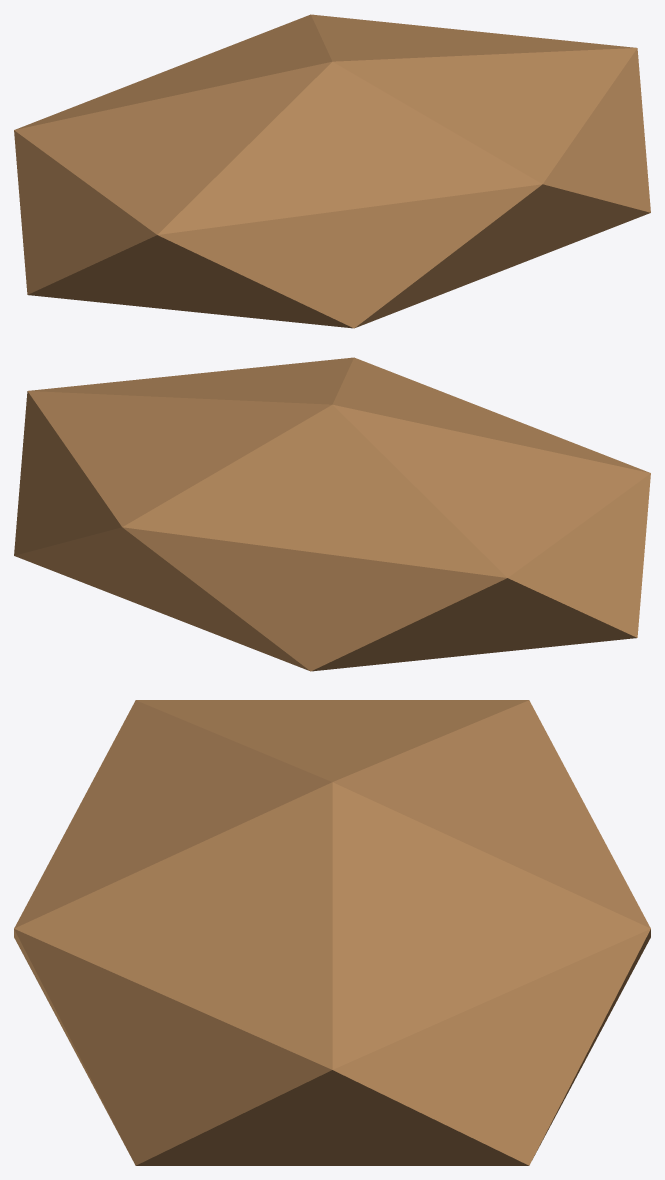
Rendered from carne_cozida.glb.
3 renders of one model, top to bottom at view 1: azimuth 30°, elevation 25°; view 2: azimuth 150°, elevation 25°; view 3: azimuth 270°, elevation 25°, orthographic. The views are drawn at different scales.
Parts seen in each view (by area): view 1: carne_cozida; view 2: carne_cozida; view 3: carne_cozida.
Part boxes in pixels (x1,y1,x2,y2): carne_cozida: [14, 14, 650, 328]; carne_cozida: [14, 357, 650, 671]; carne_cozida: [14, 700, 650, 1165].
Size of the model in its own units: 0.186 by 0.064 by 0.1225.
